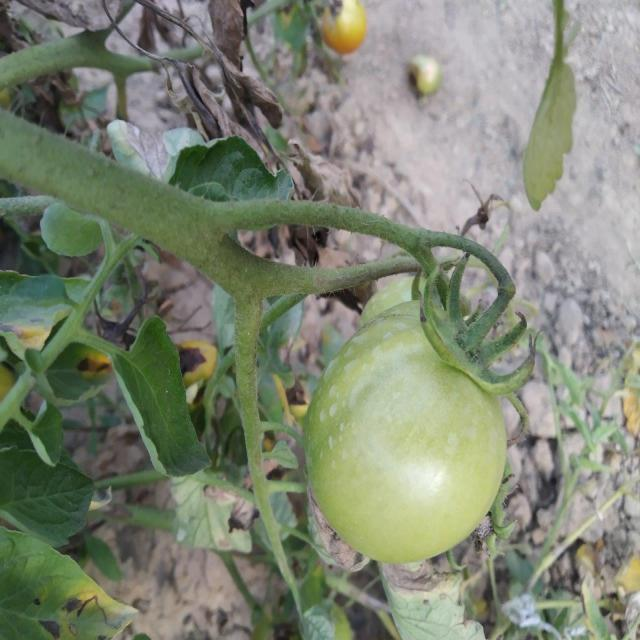Unripe: (302, 292, 509, 567)
